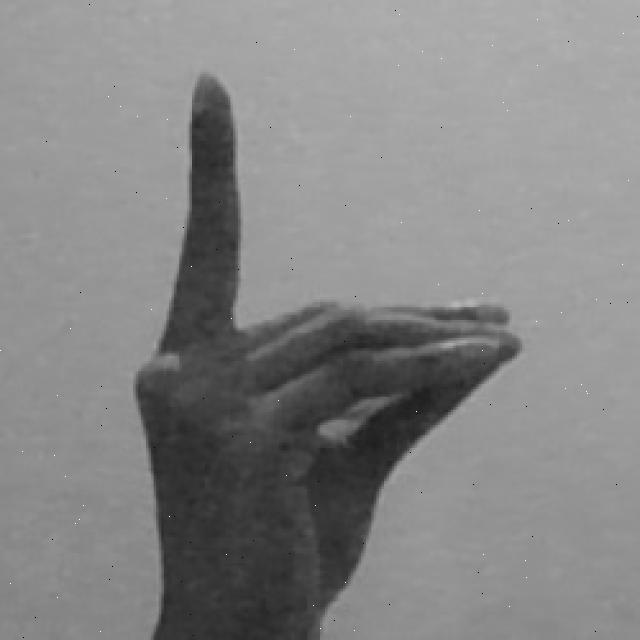D: (130, 69, 524, 640)
